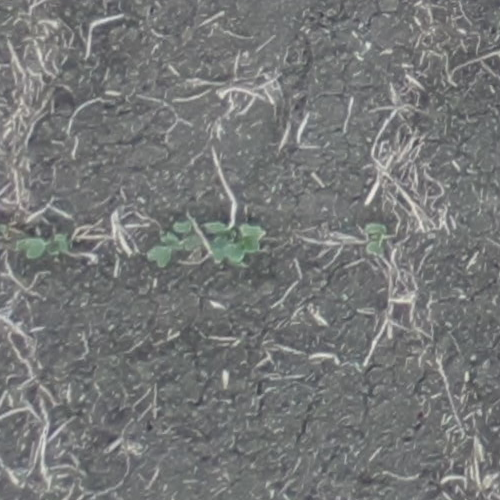plant: (202, 220, 264, 266), (148, 220, 198, 269), (24, 233, 73, 261), (364, 224, 389, 256)
